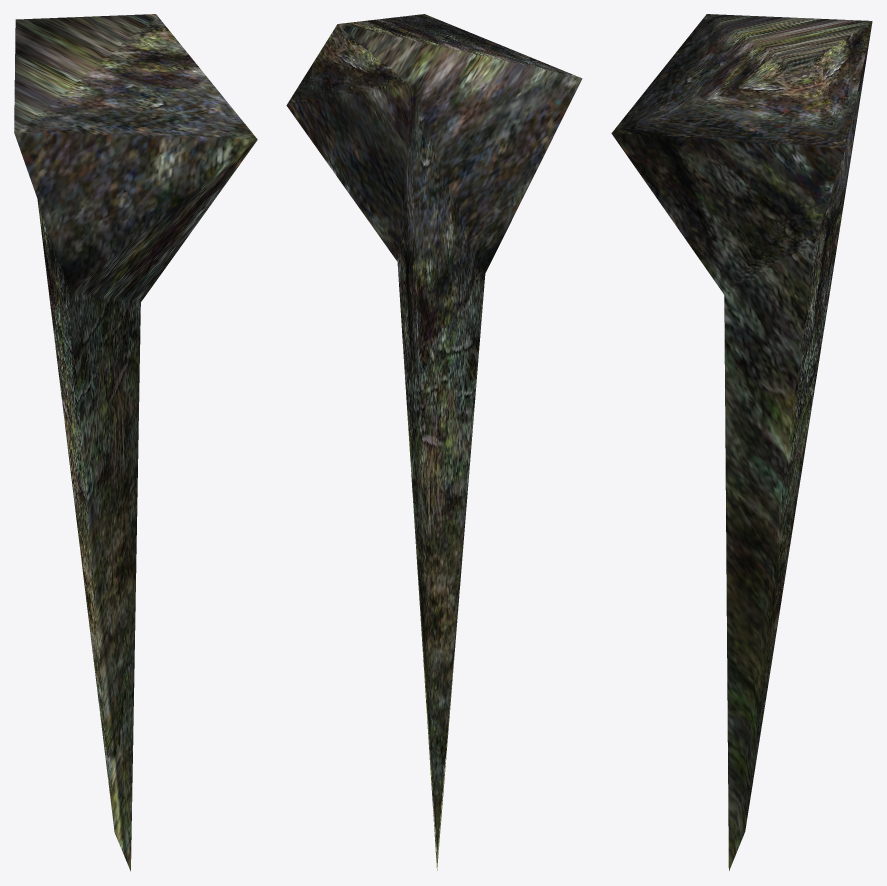
File: thm_all_cave_stalagtite_damprock_b2_l2.fbx
3 views of the same model, side by side, from view 1: azimuth 30°, elevation 25°; view 2: azimuth 150°, elevation 25°; view 3: azimuth 270°, elevation 25° (orthographic). The views are drawn at different scales.
Parts seen in each view (by area): view 1: mesh_node; view 2: mesh_node; view 3: mesh_node.
Part boxes in pixels (x1,y1,x2,y2): mesh_node: [14, 14, 257, 871]; mesh_node: [286, 14, 582, 870]; mesh_node: [611, 14, 872, 870].
Size of the model in its own units: 1.02 by 3.74 by 1.06.
